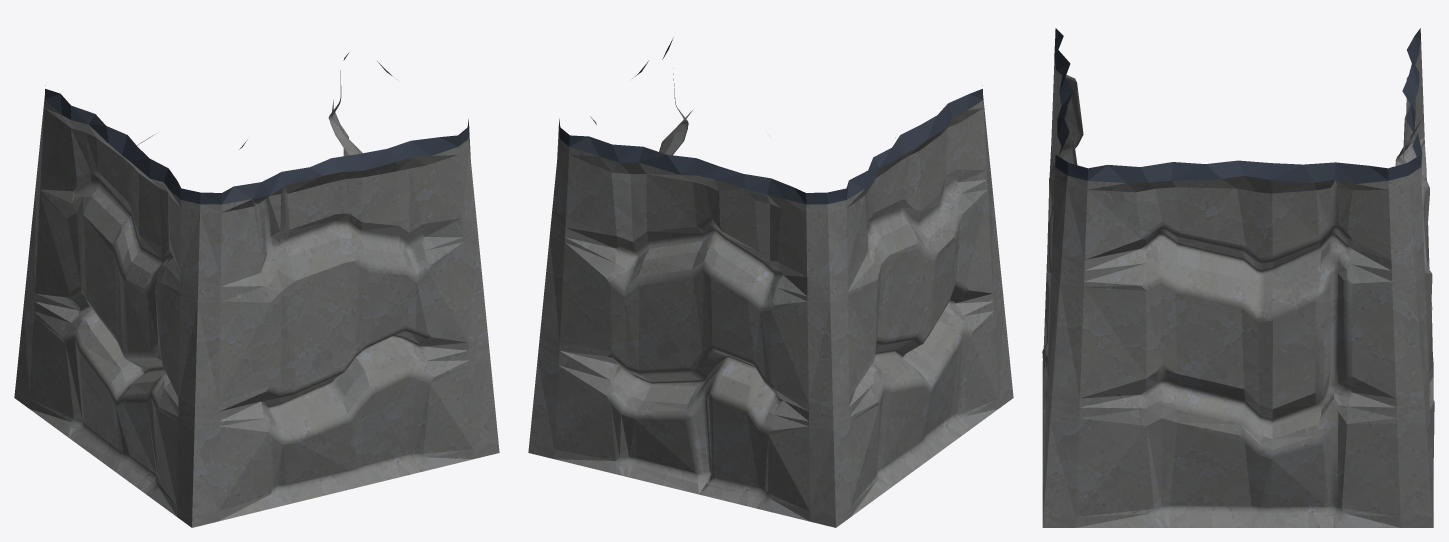
The model's file is cliff_wall_island_b.glb.
3 renders of one model, left to right at view 1: azimuth 30°, elevation 25°; view 2: azimuth 150°, elevation 25°; view 3: azimuth 270°, elevation 25°, orthographic. The views are drawn at different scales.
Visible parts, largest first — view 1: CliffWall_island_b_Body.001; view 2: CliffWall_island_b_Body.001; view 3: CliffWall_island_b_Body.001.
Boxes of the visible parts, x1,y1,x2,y2 form: CliffWall_island_b_Body.001: (14, 52, 499, 527); CliffWall_island_b_Body.001: (528, 38, 1013, 527); CliffWall_island_b_Body.001: (1042, 28, 1434, 527).
Bounding box in the file's own units: 1 × 1 × 1.
9 materials, 4 textured.
